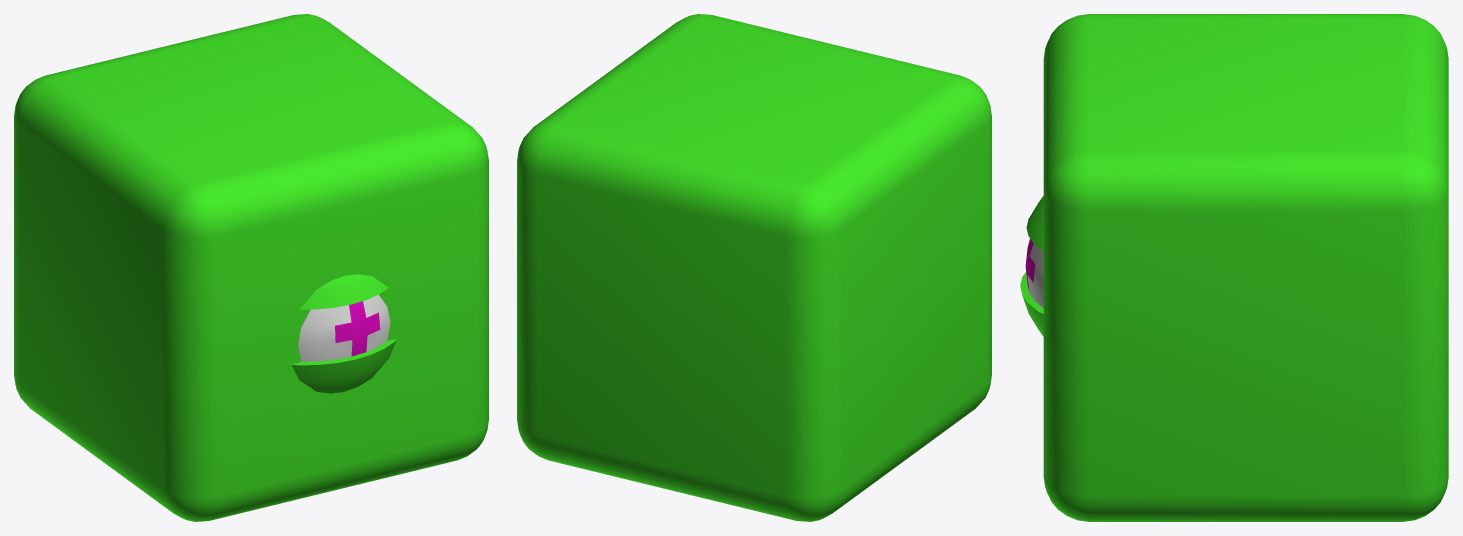
The model's file is Goo.fbx.
3 renders of one model, left to right at view 1: azimuth 30°, elevation 25°; view 2: azimuth 150°, elevation 25°; view 3: azimuth 270°, elevation 25°, orthographic. The views are drawn at different scales.
Visible parts, largest first — view 1: Cube, Sphere, Sphere.002, Sphere.001; view 2: Cube; view 3: Cube, Sphere, Sphere.002.
Boxes of the visible parts, left/top/right/bottom form: Cube: left=14, top=14, right=488, bottom=521; Sphere: left=291, top=274, right=396, bottom=393; Sphere.002: left=298, top=295, right=390, bottom=361; Sphere.001: left=335, top=301, right=380, bottom=356; Cube: left=517, top=14, right=991, bottom=521; Cube: left=1043, top=14, right=1448, bottom=521; Sphere: left=1020, top=196, right=1043, bottom=336; Sphere.002: left=1027, top=238, right=1043, bottom=307.
Size of the model in its own units: 200 by 200 by 212.
